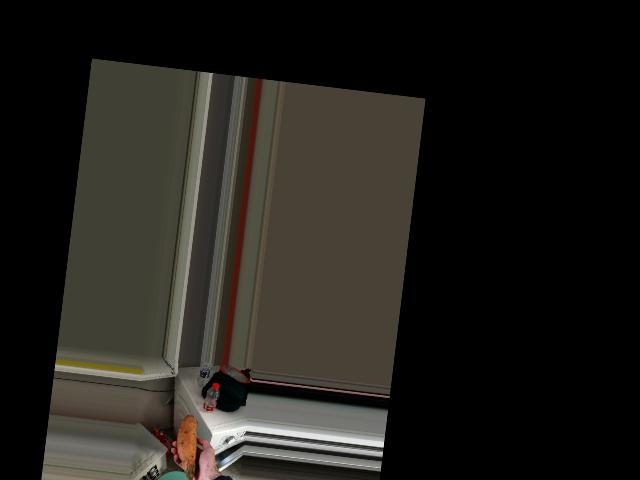sweet_potato: (168, 416, 197, 480)
